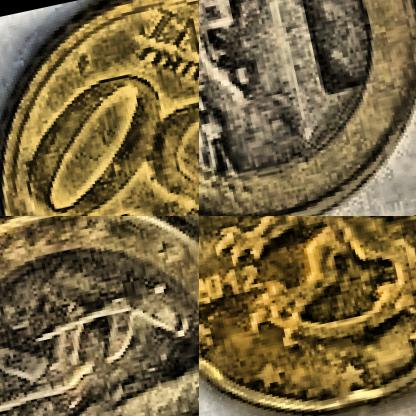coin: (199, 0, 415, 215), (199, 216, 415, 415), (0, 0, 198, 215), (0, 216, 198, 415)
